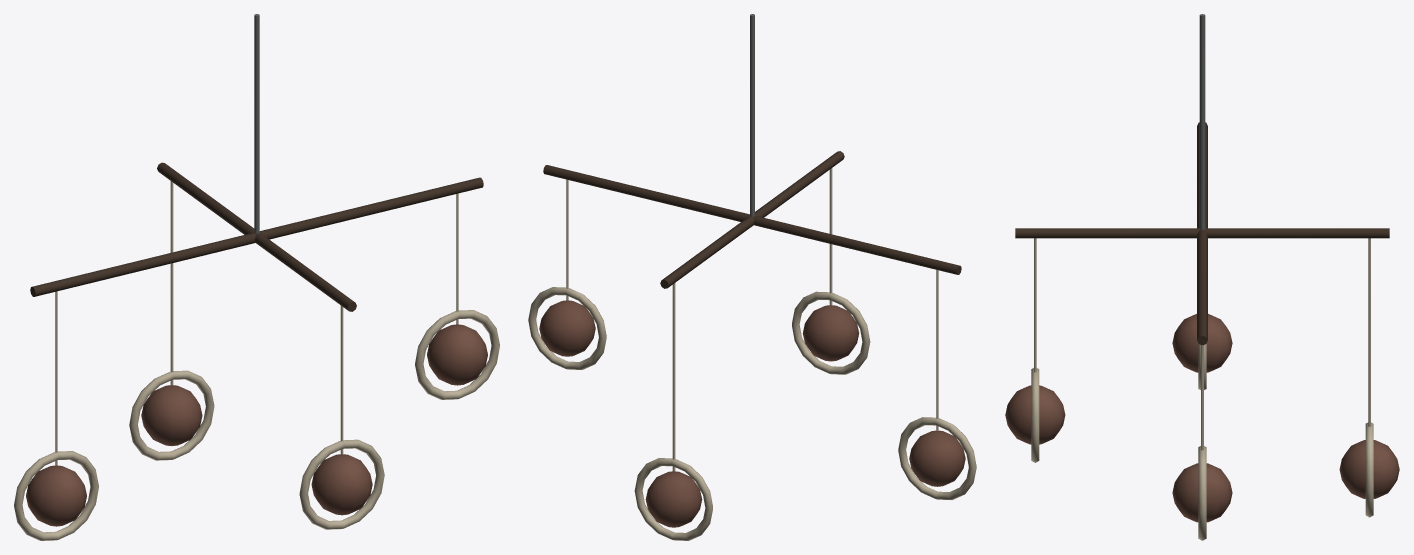
File: prop-hanging-mobile-v01.glb
3 renders of one model, left to right at view 1: azimuth 30°, elevation 25°; view 2: azimuth 150°, elevation 25°; view 3: azimuth 270°, elevation 25°, orthographic. The views are drawn at different scales.
Parts seen in each view (by area): view 1: hanging-mobile; view 2: hanging-mobile; view 3: hanging-mobile.
Part boxes in pixels (<box>): hanging-mobile: <box>14,14,499,540</box>; hanging-mobile: <box>528,14,976,540</box>; hanging-mobile: <box>1005,14,1399,540</box>.
Size of the model in its own units: 0.824 by 0.822 by 0.59.
